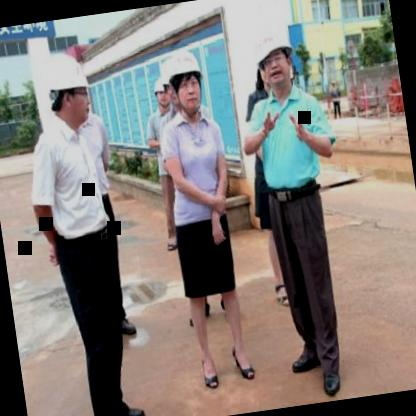helmet: (36, 48, 96, 132), (162, 44, 209, 118), (250, 28, 298, 96), (149, 71, 174, 114)
